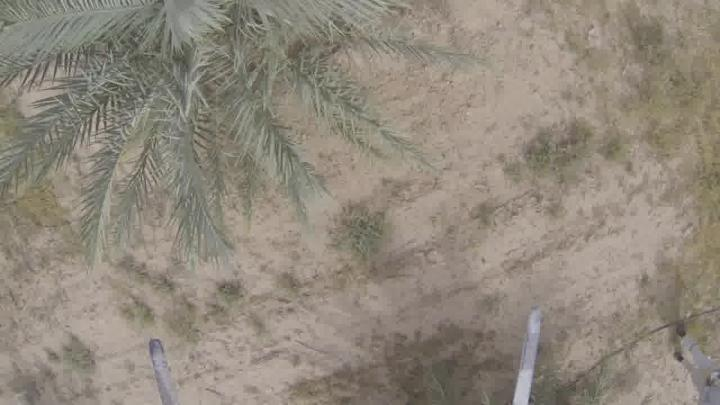Date-Palm-Crown: (24, 1, 304, 134)
